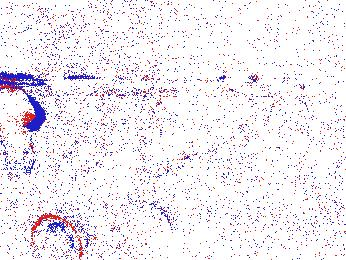flame jellyfish: (1, 82, 44, 181), (111, 201, 174, 260), (30, 214, 93, 260)
